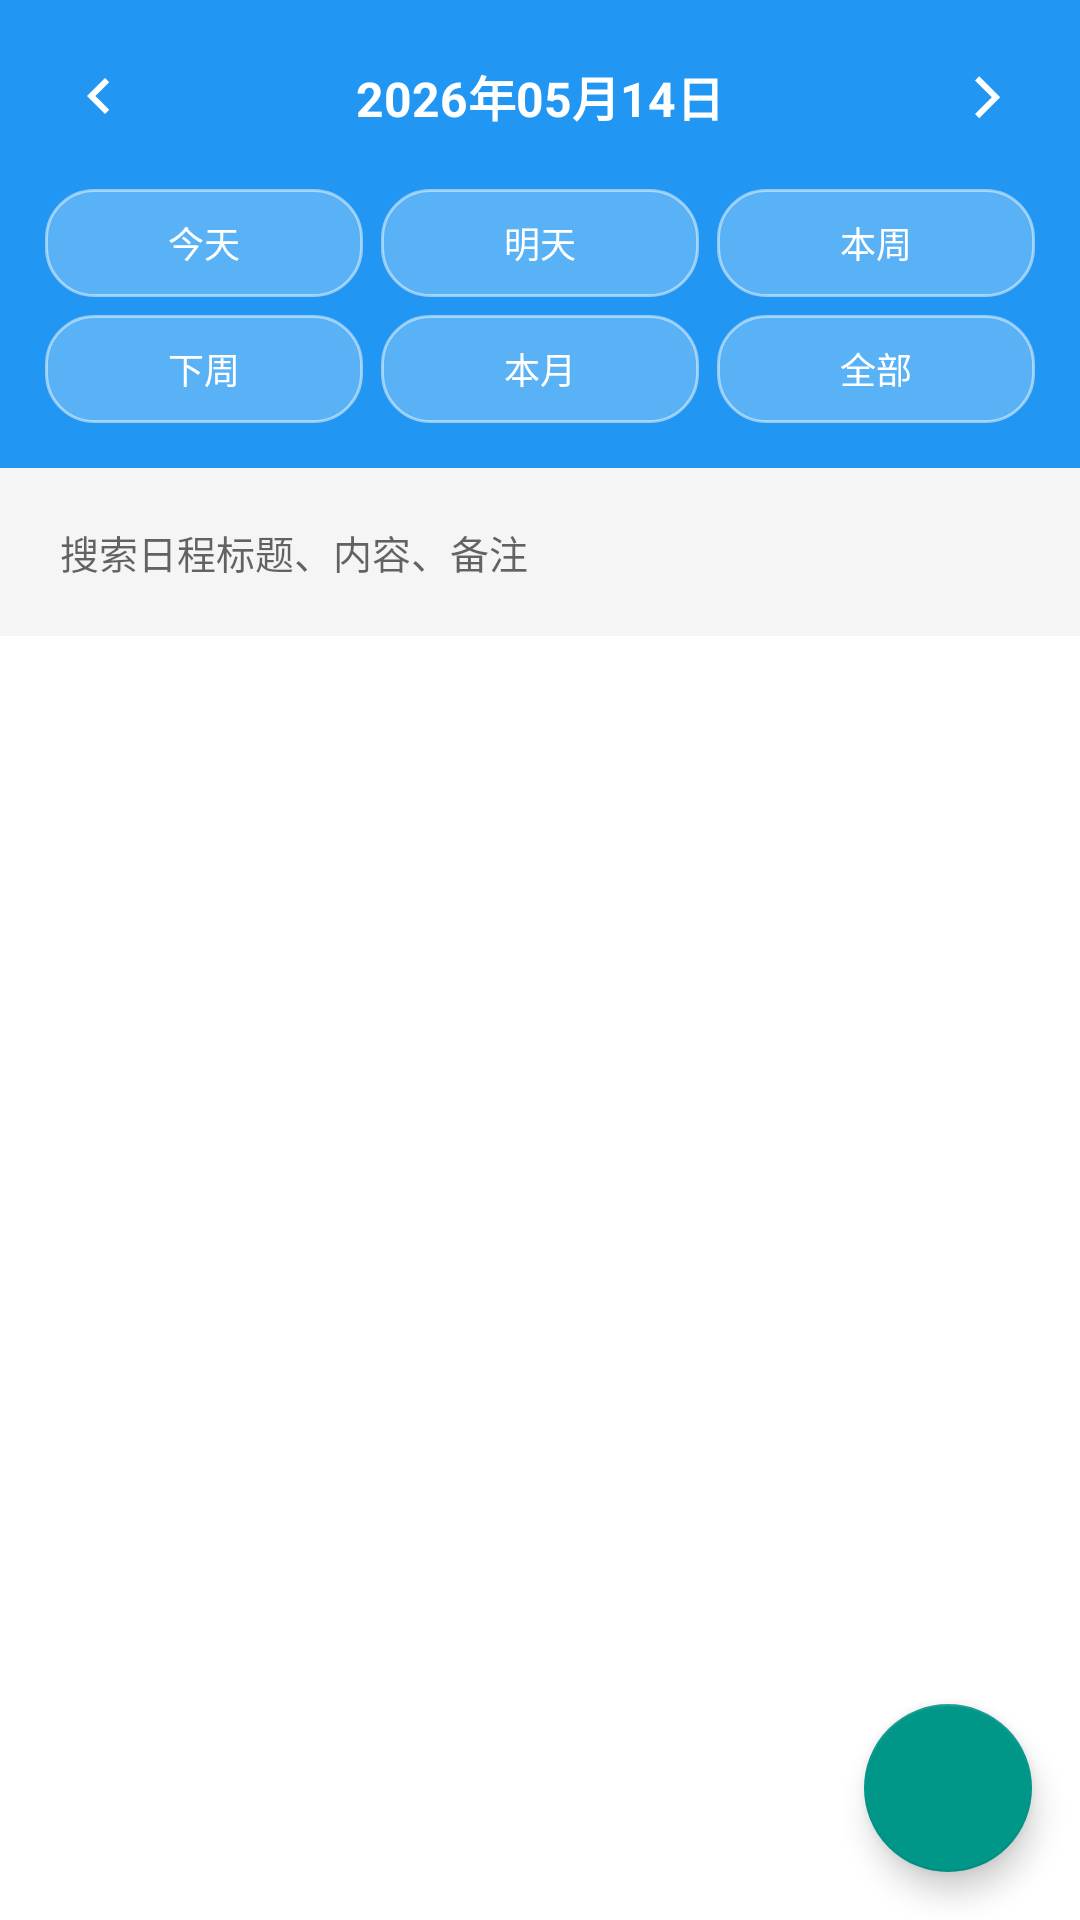

Screen size 1080px×1920px. Icon name, then its box in pixels as (x1, y1, x2, y2):
chevron left: (87, 78, 109, 114)
chevron right: (975, 76, 1000, 118)
